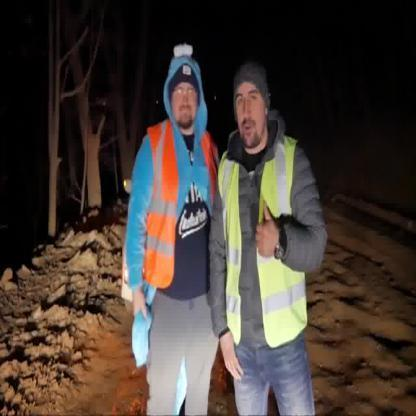vest: (218, 136, 308, 349), (144, 120, 218, 291)
